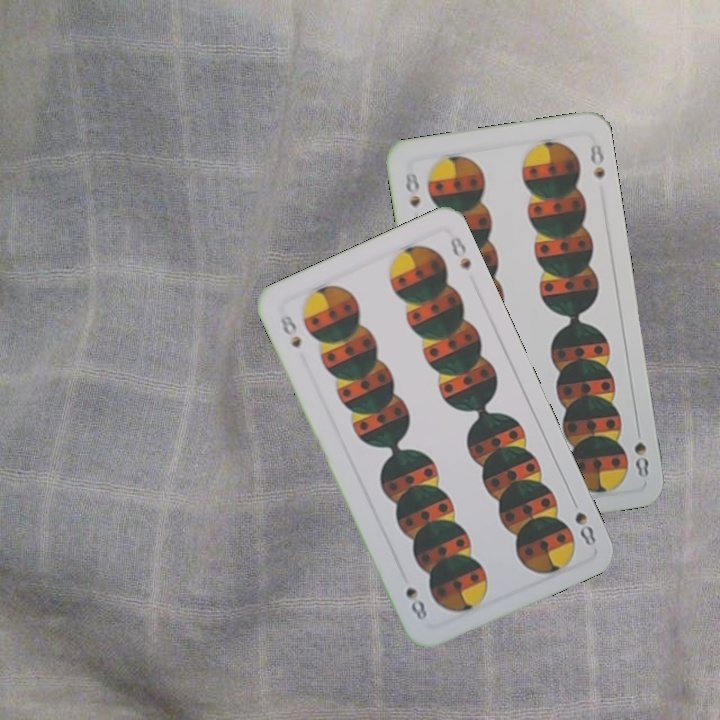S8: (566, 492, 600, 549), (276, 311, 304, 351), (630, 438, 652, 481), (401, 168, 423, 210)
